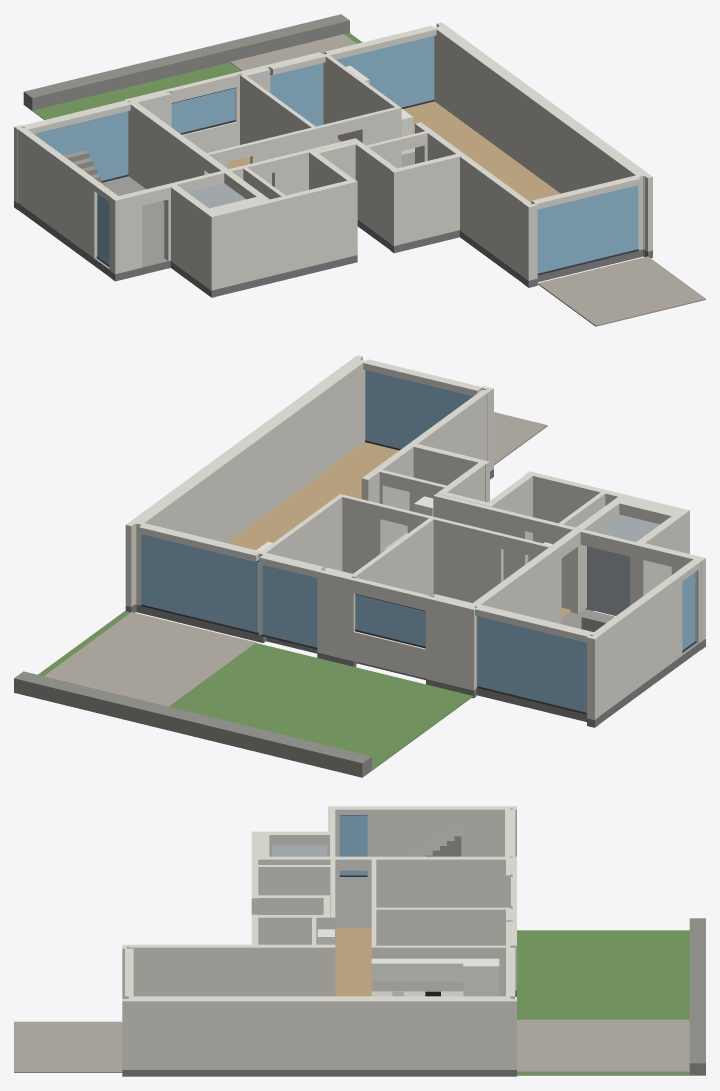
Rendered from apartment.obj.
3 views of the same model, one above another, from view 1: azimuth 30°, elevation 25°; view 2: azimuth 150°, elevation 25°; view 3: azimuth 270°, elevation 25° (orthographic). The views are drawn at different scales.
Visible parts, largest first — view 1: walls, terrace N edge, glass Living S glazing, terrace S paving, slab, glass Living N glazing, floor Wohnen / Essen, glass Stair N glazing, terrace N lawn, glass Zimmer 2 terrace door, glass Zimmer 1 window, floor Treppenhaus (+10 smaller); view 2: walls, terrace N lawn, terrace N paving, terrace N edge, glass Living N glazing, glass Stair N glazing, glass Living S glazing, floor Wohnen / Essen, slab, glass Zimmer 2 terrace door, Elevator car, glass Zimmer 1 window (+9 smaller); view 3: walls, terrace N lawn, terrace N paving, terrace S paving, slab, terrace N edge, floor Korridor, Kitchen wall units, floor Treppenhaus, Kitchen tall units, glass Stair W entrance, Elevator car (+4 smaller).
Part boxes in pixels (x1,y1,x2,y2): walls: [14, 22, 652, 290]; terrace N edge: [23, 14, 349, 110]; glass Living S glazing: [537, 185, 638, 273]; terrace S paving: [537, 256, 705, 326]; slab: [14, 200, 652, 297]; glass Living N glazing: [336, 36, 434, 107]; floor Wohnen / Essen: [403, 101, 560, 202]; glass Stair N glazing: [34, 111, 128, 180]; terrace N lawn: [32, 33, 362, 119]; glass Zimmer 2 terrace door: [270, 63, 322, 126]; glass Zimmer 1 window: [171, 88, 235, 133]; floor Treppenhaus: [18, 176, 167, 270]; walls: [125, 355, 705, 719]; terrace N lawn: [38, 611, 473, 770]; terrace N paving: [44, 612, 256, 706]; terrace N edge: [14, 671, 371, 777]; glass Living N glazing: [141, 534, 258, 632]; glass Stair N glazing: [477, 616, 586, 712]; glass Living S glazing: [365, 370, 472, 448]; floor Wohnen / Essen: [227, 442, 399, 549]; slab: [125, 469, 705, 727]; glass Zimmer 2 terrace door: [262, 565, 317, 647]; Elevator car: [587, 514, 659, 615]; glass Zimmer 1 window: [355, 594, 425, 646]; walls: [122, 806, 516, 1069]; terrace N lawn: [517, 930, 689, 1075]; terrace N paving: [517, 1019, 689, 1072]; terrace S paving: [14, 1021, 122, 1072]; slab: [122, 990, 516, 1076]; terrace N edge: [689, 918, 705, 1075]; floor Korridor: [335, 928, 371, 996]; Kitchen wall units: [371, 958, 463, 981]; floor Treppenhaus: [339, 877, 367, 928]; Kitchen tall units: [463, 958, 499, 996]; glass Stair W entrance: [339, 815, 367, 875]; Elevator car: [272, 845, 327, 856].
Bounding box in the file's own units: 15.28 × 2.75 × 22.88.
